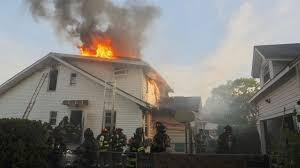fire: (79, 37, 118, 58)
